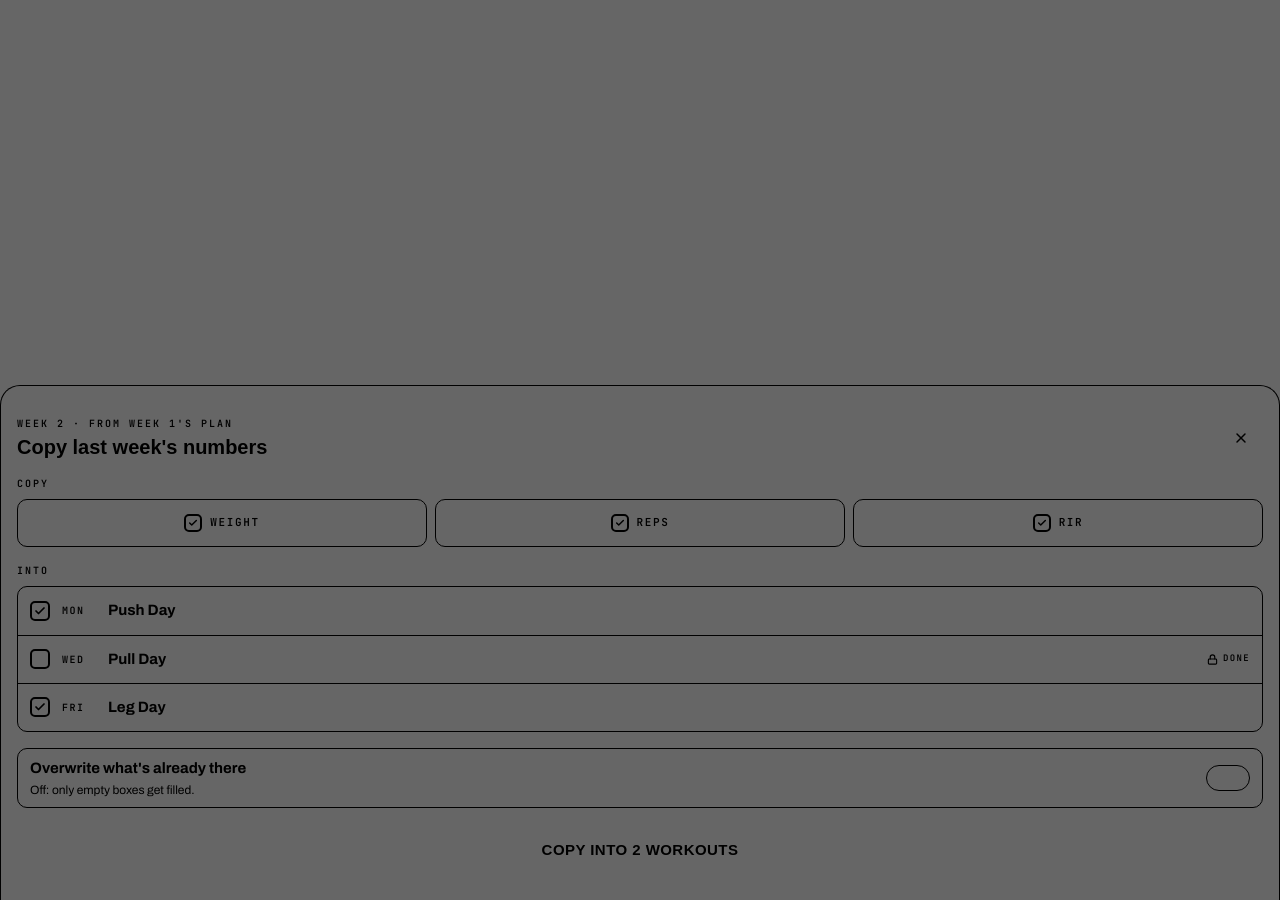
Test: "Overwrite what's already there" › off: a raised track with a strong outline and the knob at the left in the strong border colour; on: the accent track, the knob at the right in --on-accent
Expected: the text "Off: only empty boxes get filled." is shown, [30,783,195,797]
What coordinates should you click on to do the following:
click the switch
I would click on:
 (138, 768)
Its box is [17,748,1263,808].
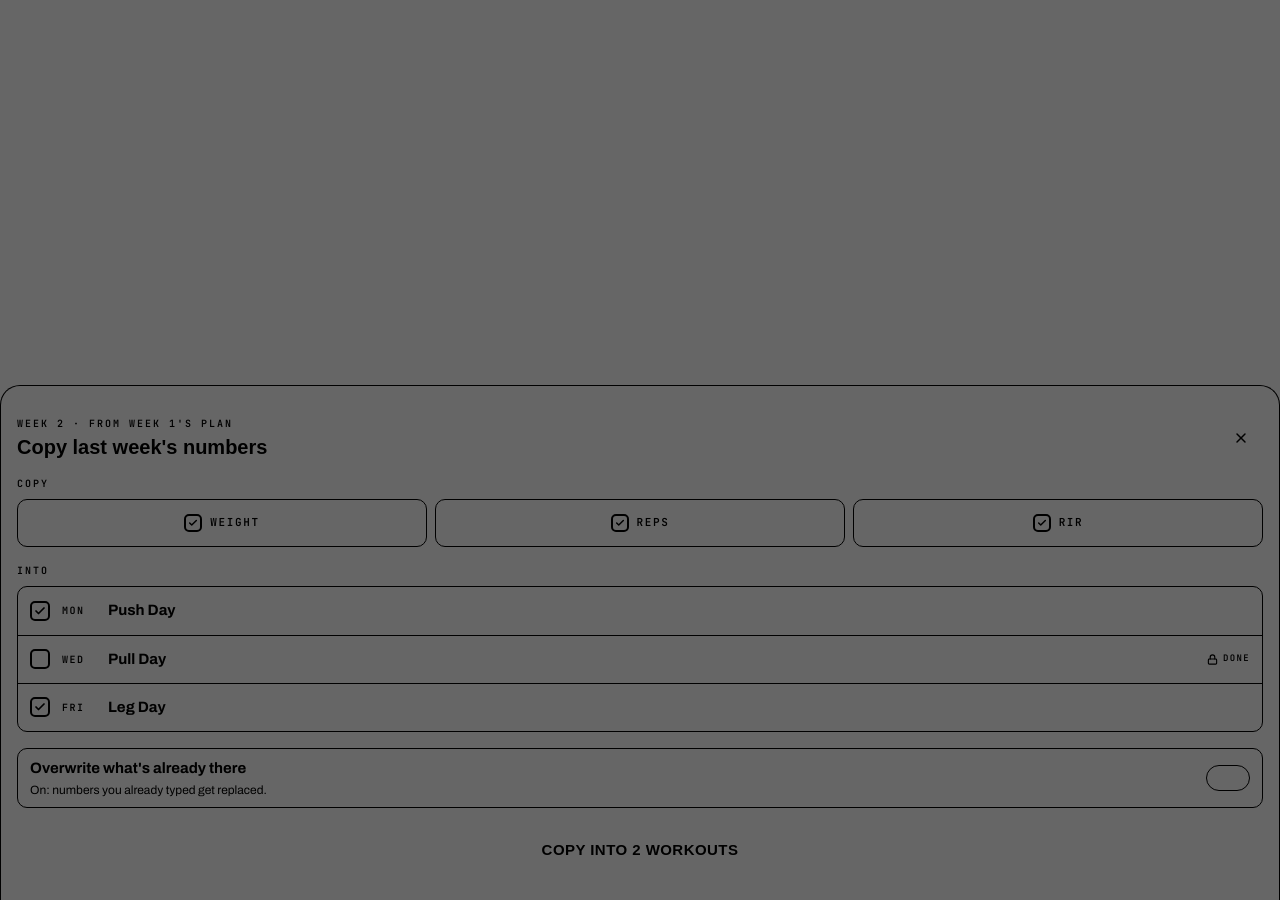
Expected: the text "On: numbers you already typed get replaced." is shown, [30,783,267,797]
